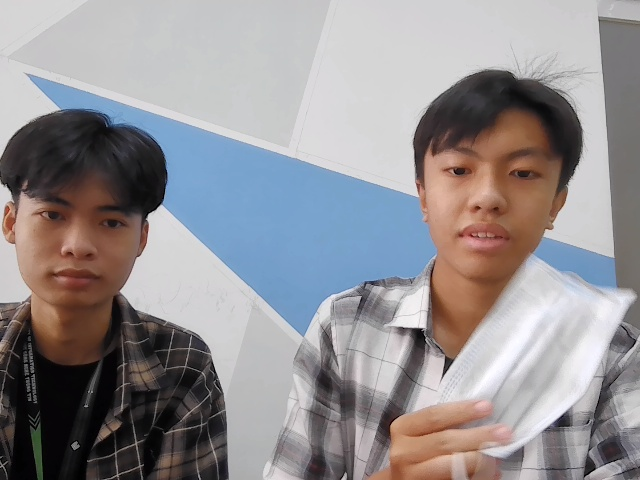human: (408, 55, 588, 271), (3, 111, 167, 315)
mask: (436, 250, 620, 450)
